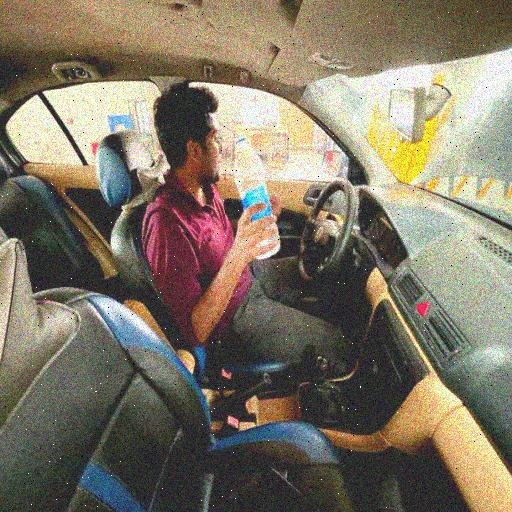Drinking: (137, 84, 318, 339)
